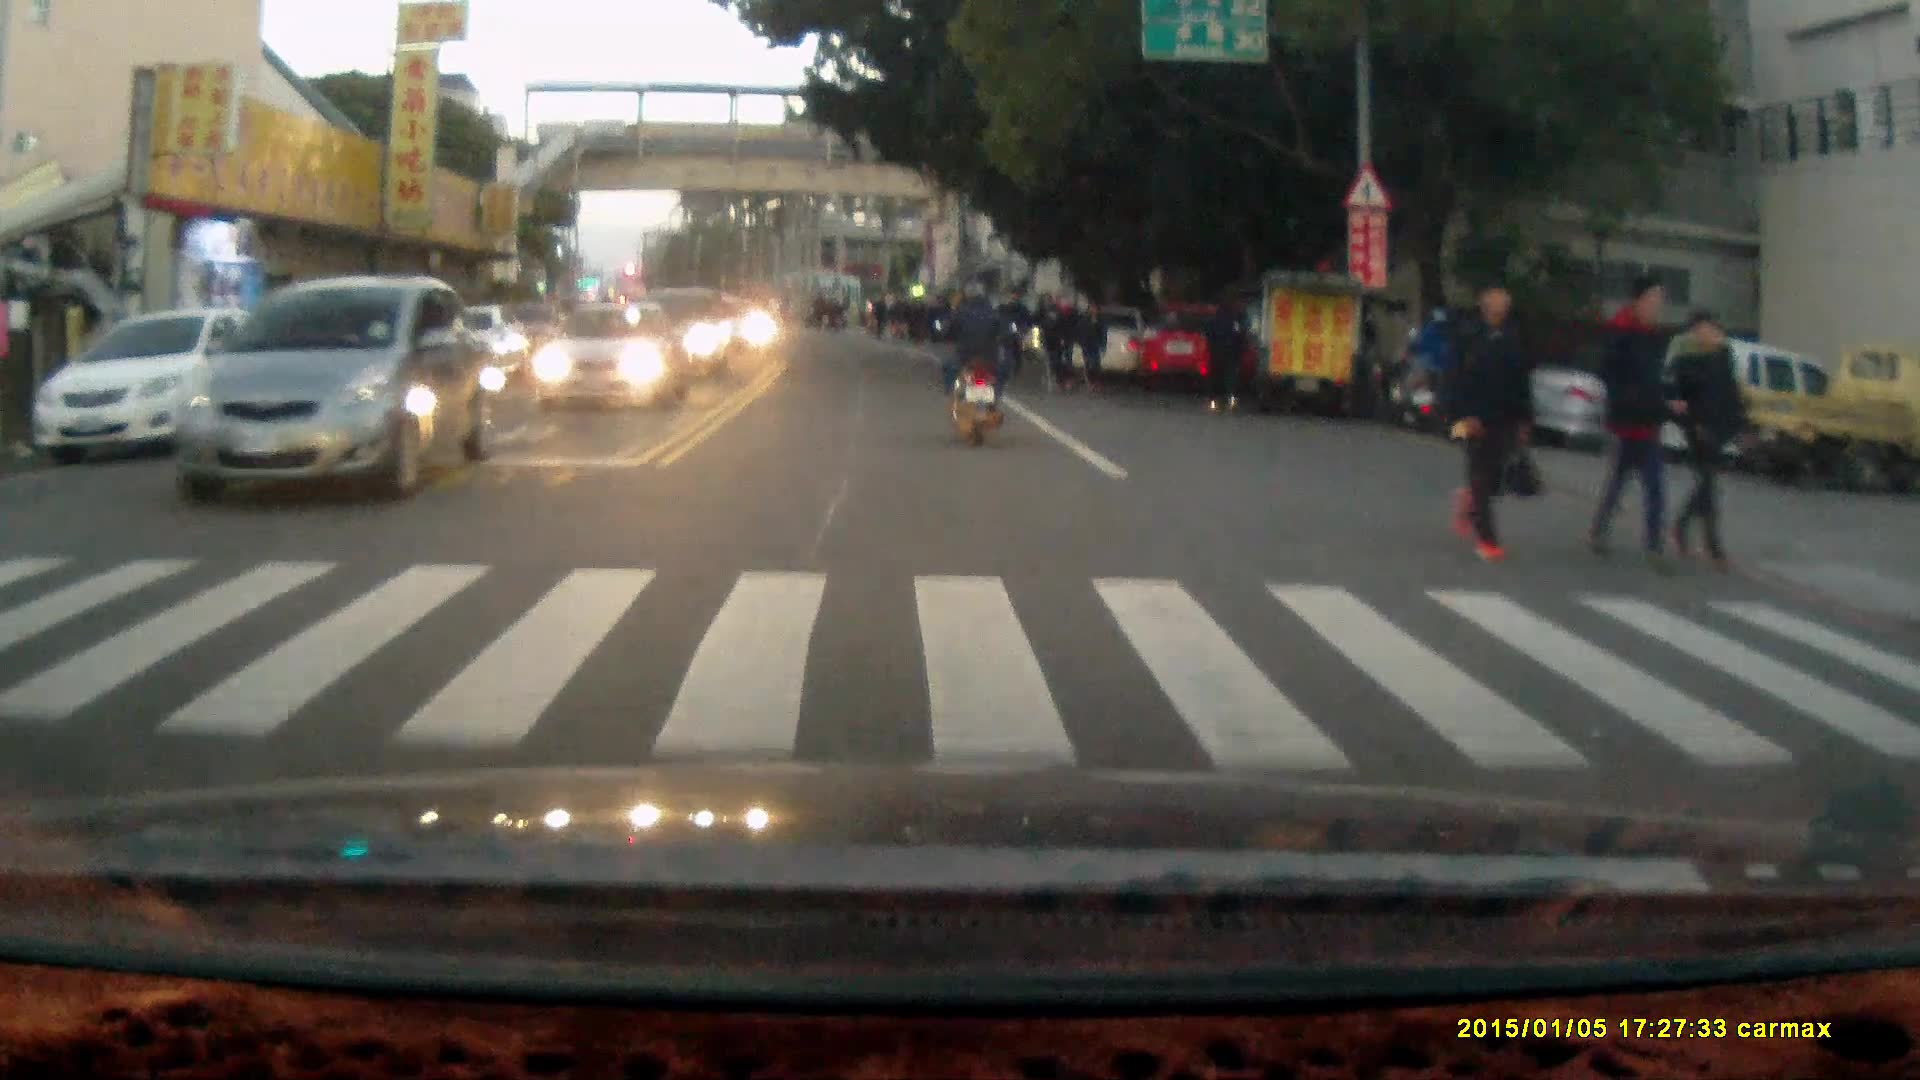pedestrian: (1438, 274, 1542, 566), (1582, 270, 1680, 567), (1669, 306, 1749, 578), (1195, 291, 1245, 418), (998, 280, 1030, 392), (1033, 288, 1065, 392), (1076, 297, 1109, 390)
rider: (932, 278, 1016, 448)
vehicle: (166, 274, 497, 512), (1703, 343, 1920, 496), (23, 310, 233, 467), (529, 304, 685, 416), (1133, 303, 1268, 397)
